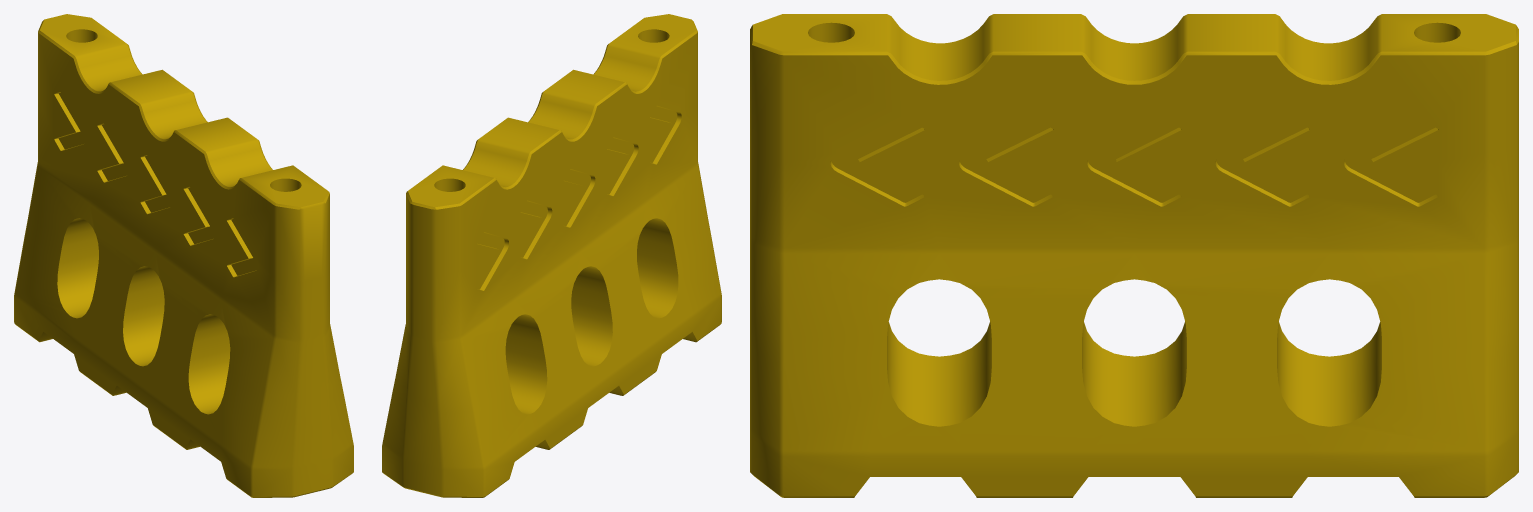
File: water_weilan.FBX
3 views of the same model, side by side, from view 1: azimuth 30°, elevation 25°; view 2: azimuth 150°, elevation 25°; view 3: azimuth 270°, elevation 25° (orthographic). The views are drawn at different scales.
Parts seen in each view (by area): view 1: 水马; view 2: 水马; view 3: 水马.
Part boxes in pixels (box(x1,y1,x2,y2)): 水马: box(14, 14, 353, 497); 水马: box(382, 14, 721, 497); 水马: box(750, 14, 1518, 497).
Bounding box in the file's own units: 0.3 × 0.8 × 1.3.
